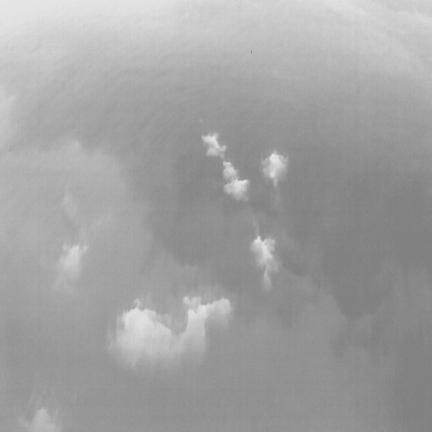flukeprints: (109, 302, 185, 366), (176, 297, 231, 358), (250, 236, 277, 275), (261, 153, 288, 186), (202, 132, 225, 159), (224, 178, 248, 200), (223, 160, 240, 183), (242, 180, 248, 187)
